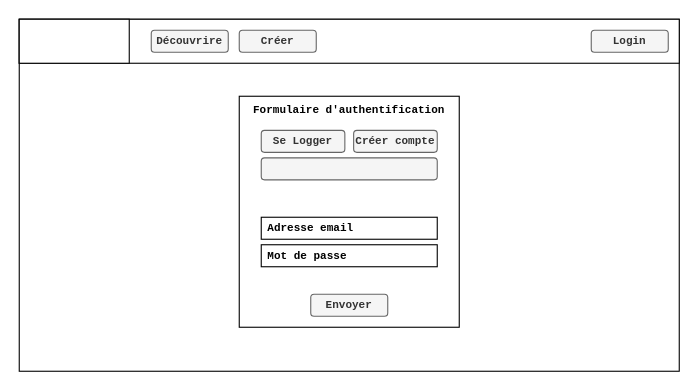
Some shapes in this 699 by 391 pixel diagram are drawn without their labels. The box of each missing label's shape, as (x1, y1, x2, y2) in pixels:
GeoCity Logo: (18, 18, 129, 63)
Se Logger avec Google: (260, 157, 437, 180)
